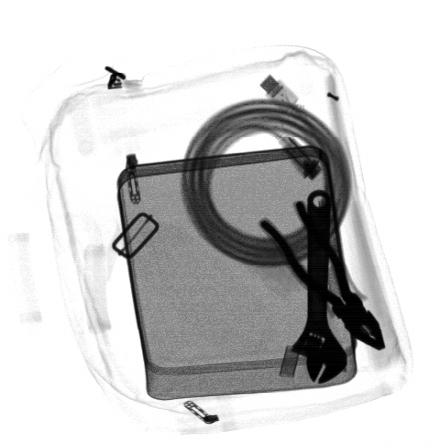Pliers: (256, 199, 388, 352)
Wrench: (290, 188, 348, 386)
